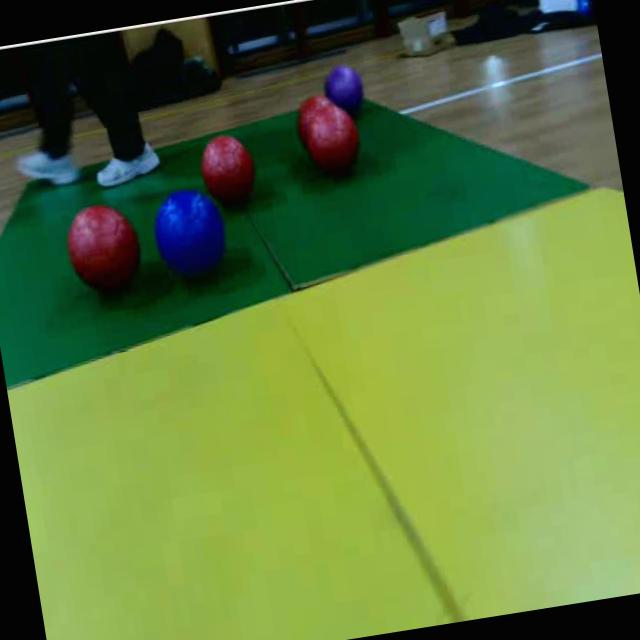blue_ball: (148, 187, 234, 294)
purple_ball: (324, 64, 368, 114)
red_ball: (61, 198, 147, 306), (301, 104, 365, 184), (200, 132, 263, 208), (292, 94, 337, 153)
